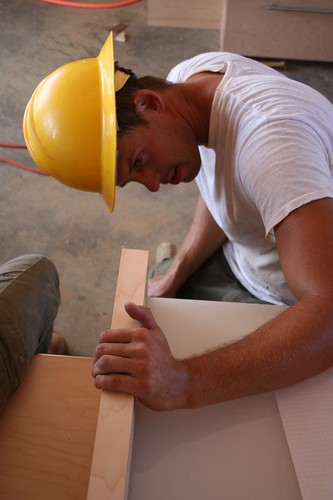person hardhat: (13, 32, 333, 404)
